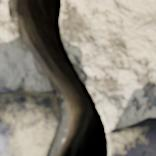broken_brick: (0, 88, 56, 155), (109, 117, 155, 155)
crack: (2, 0, 154, 155)
